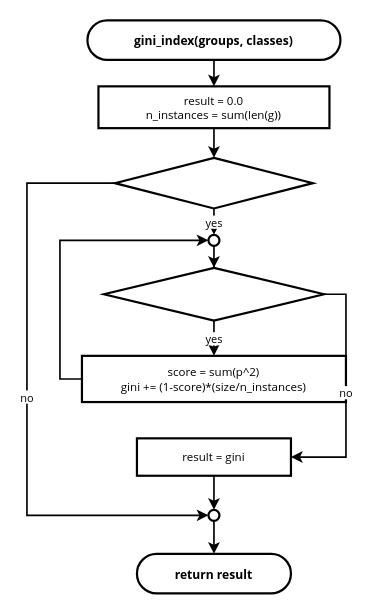
Image size: 375x613. Some labels were removed from this diagram. The box of each missing label's shape, as (x1, y1, x2, y2) in pixels:
For each group in groups: (102, 266, 324, 321)
n_instances > 0: (113, 156, 314, 209)
